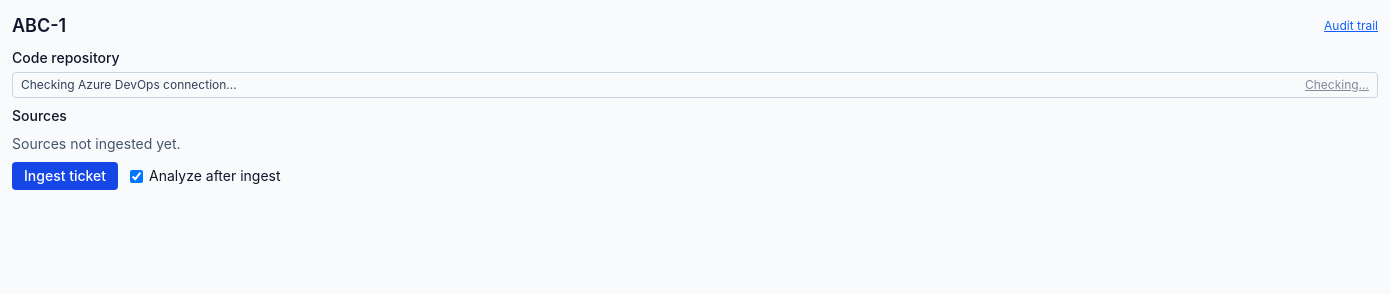
Test: SessionHeader intake controls › a failed chained analysis shows the sources, an error in the Sources block and Analyze ticket
What coordinates should you click on to do the following:
click the button "Ingest ticket"
I would click on:
 (65, 176)
Its box is [12,162,118,190].
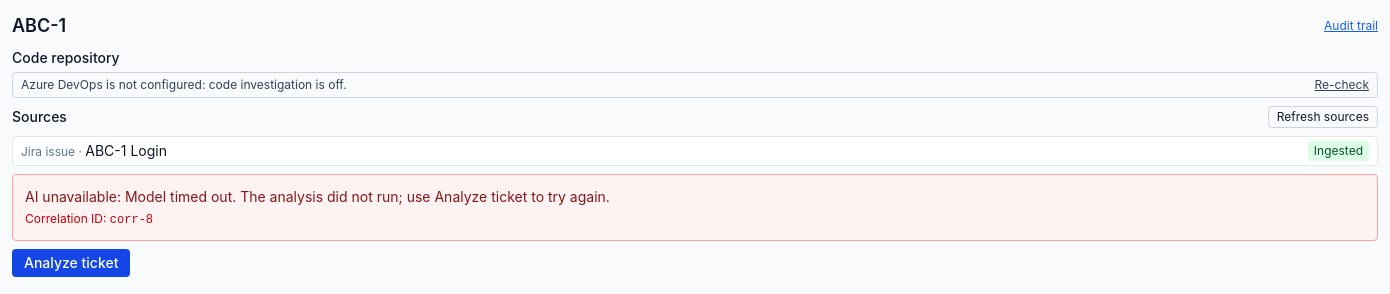
Check: the 2nd message shows "AI unavailable", box [25,188,610,205]
Check: the 2nd message shows "corr-8", box [110,213,153,227]
Check: the text "ABC-1 Login" is shown, box [85,142,167,159]
